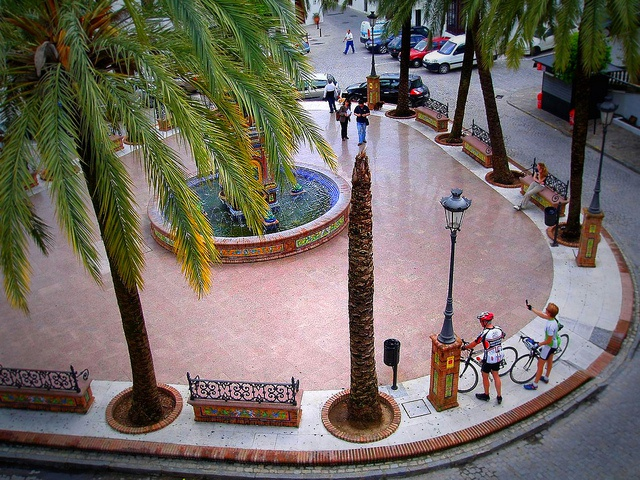non-vehicle: (458, 340, 519, 394), (510, 334, 569, 382)
